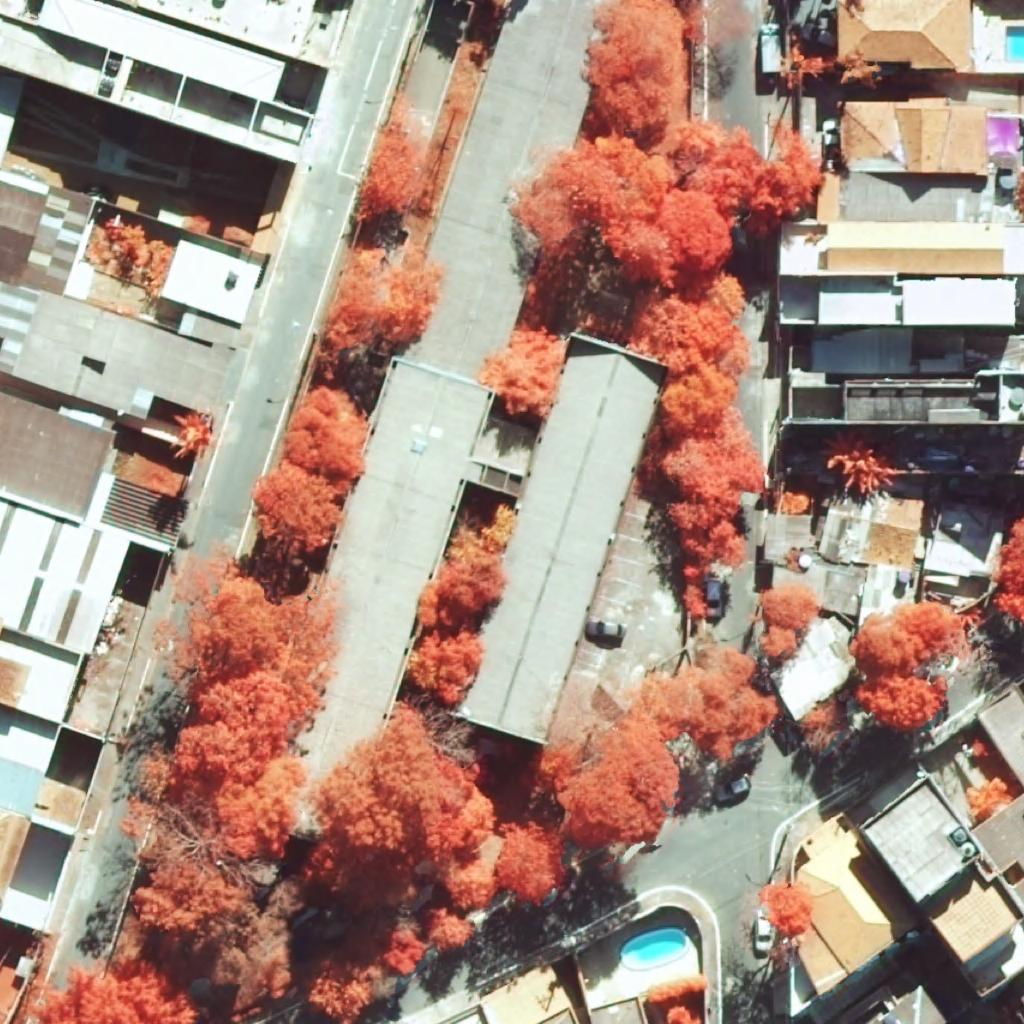pool: (623, 930, 686, 965), (1006, 26, 1024, 62)
